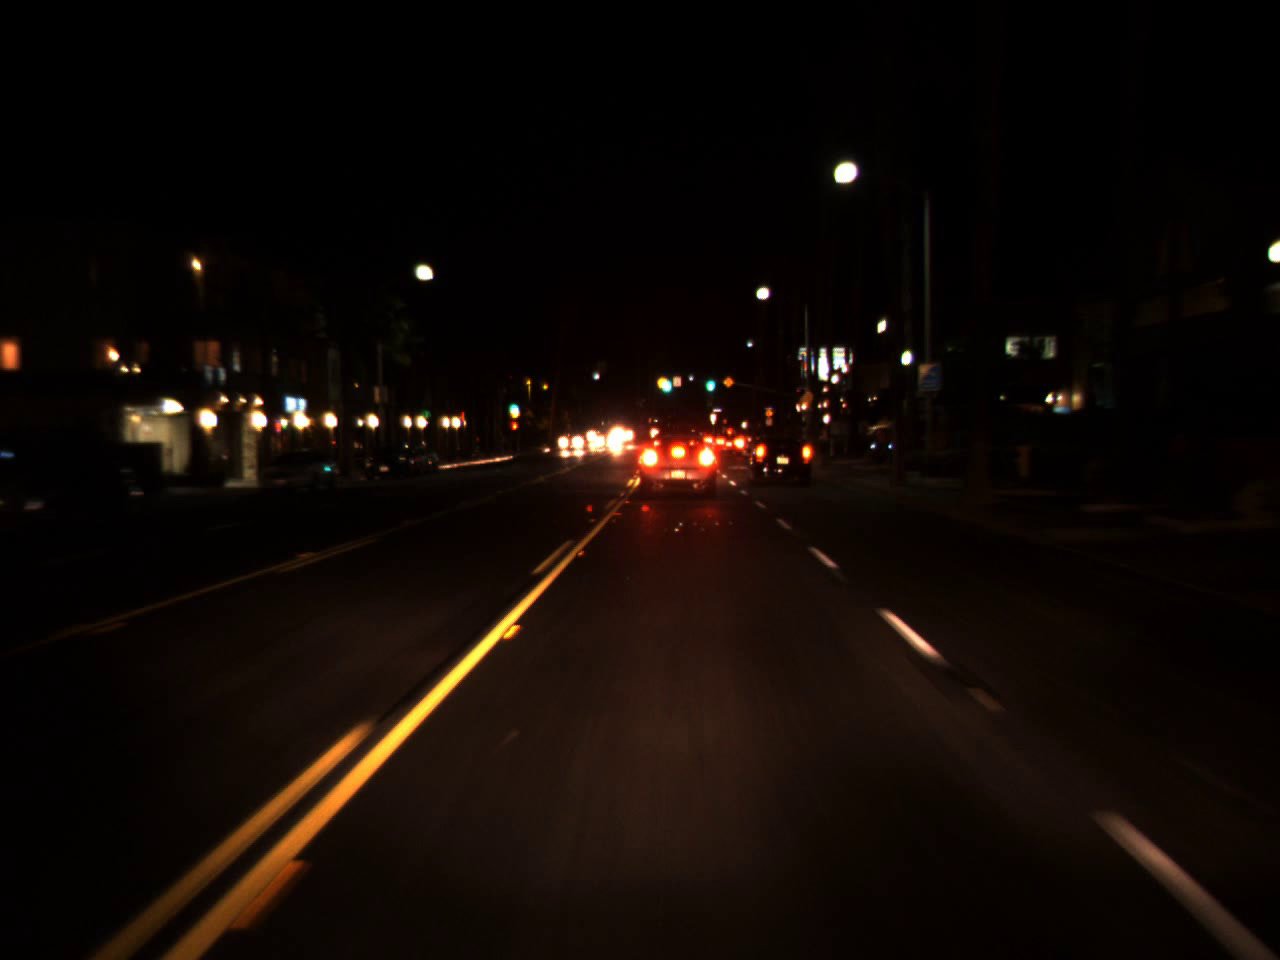go: (702, 366, 716, 396), (658, 365, 672, 395), (504, 392, 520, 416)
